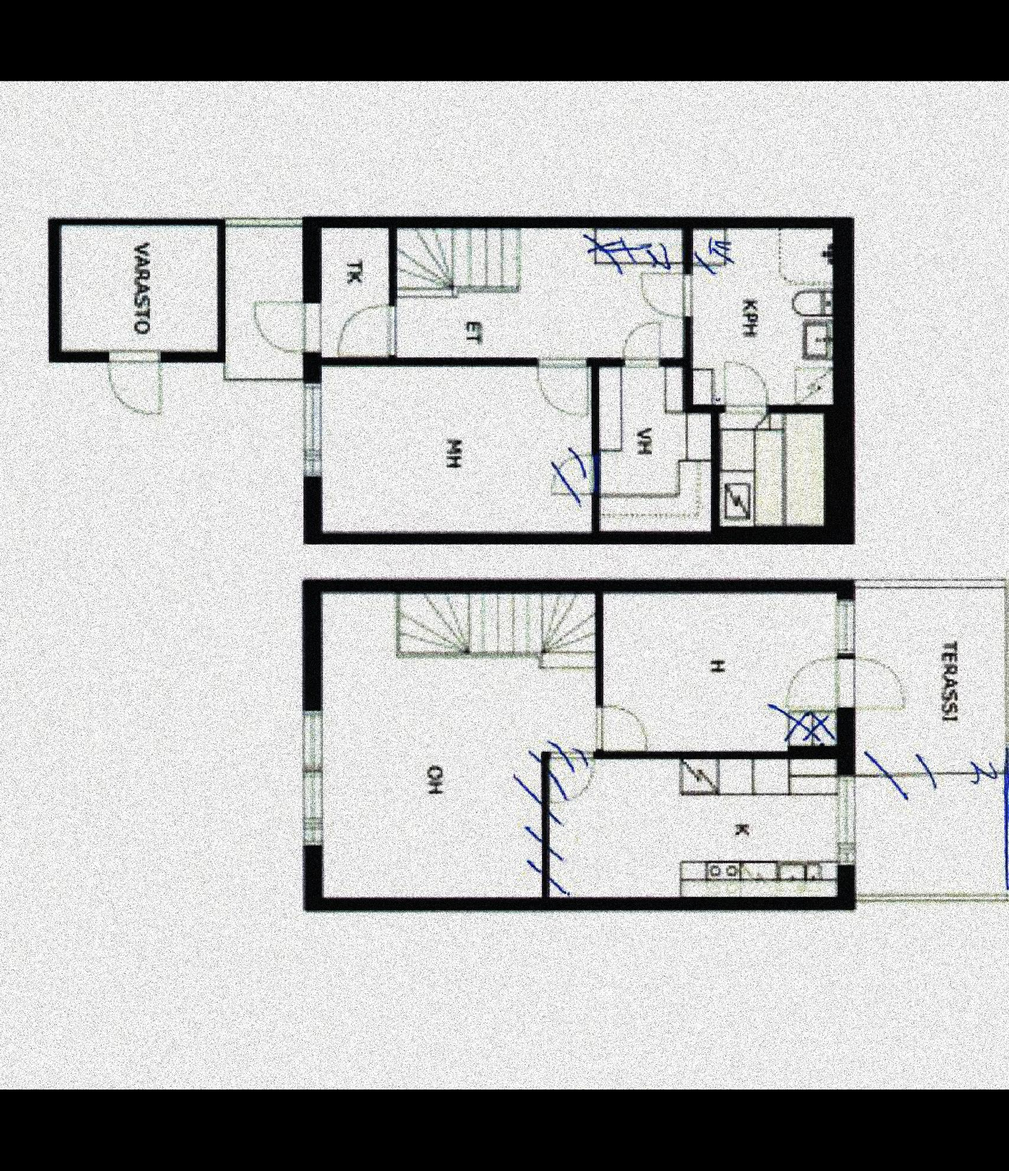door: (324, 593, 596, 897), (857, 585, 1005, 893), (324, 363, 591, 530), (549, 758, 837, 895), (392, 228, 681, 354), (605, 595, 835, 749), (693, 227, 831, 406), (61, 225, 216, 350), (600, 363, 709, 531), (226, 223, 301, 380), (722, 415, 822, 525), (321, 226, 387, 357)
window: (781, 655, 905, 714), (248, 300, 320, 354), (334, 301, 394, 362), (110, 352, 159, 421), (723, 357, 767, 417), (541, 357, 585, 417), (546, 750, 592, 807), (594, 704, 648, 752), (638, 272, 693, 319), (623, 317, 659, 366)
zone: (304, 710, 322, 841), (839, 775, 852, 866), (835, 600, 855, 654), (307, 384, 317, 472)
